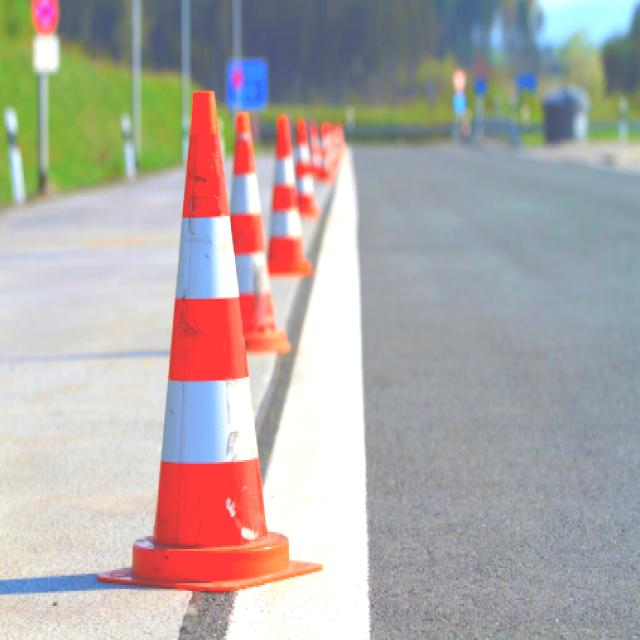cone: (131, 81, 286, 593)
